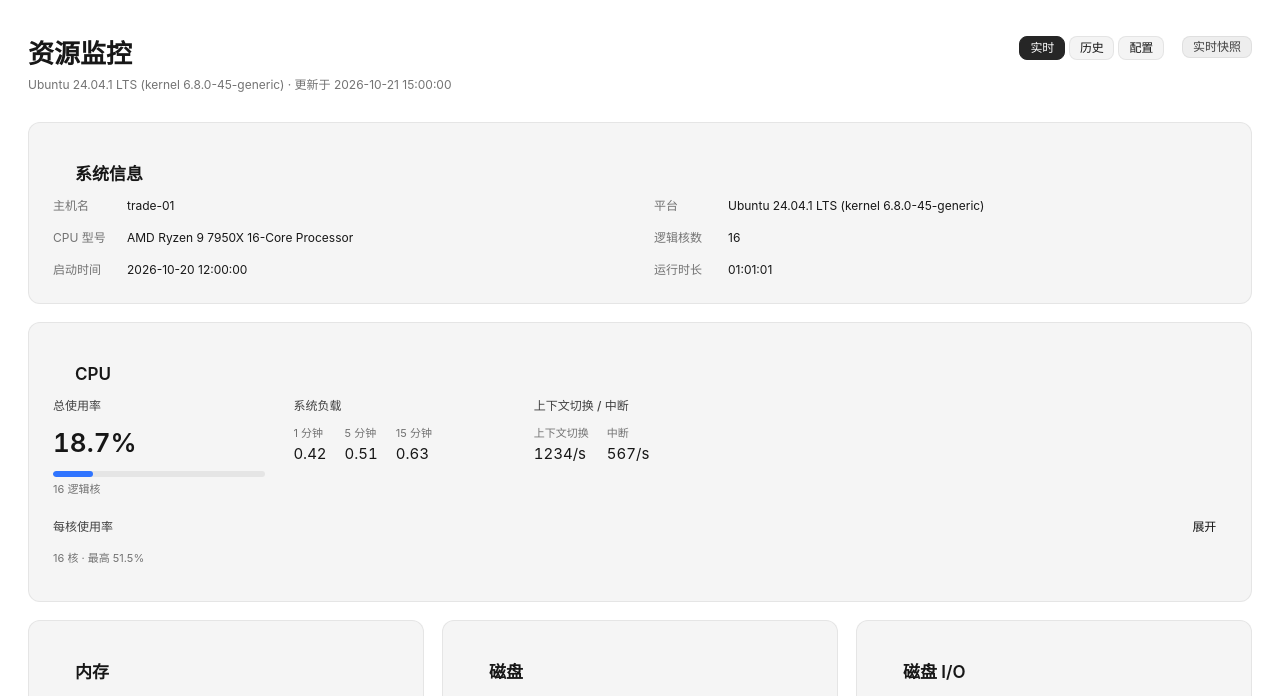
Scenario: MonitorView 历史视图（#79 三态） › 无数据：显示「该时间范围无数据」而不是「历史不可用」
Click the tab with test id "monitor-tab-history" at [1092, 48], box top-left (1069, 36), bottom-right (1114, 60)
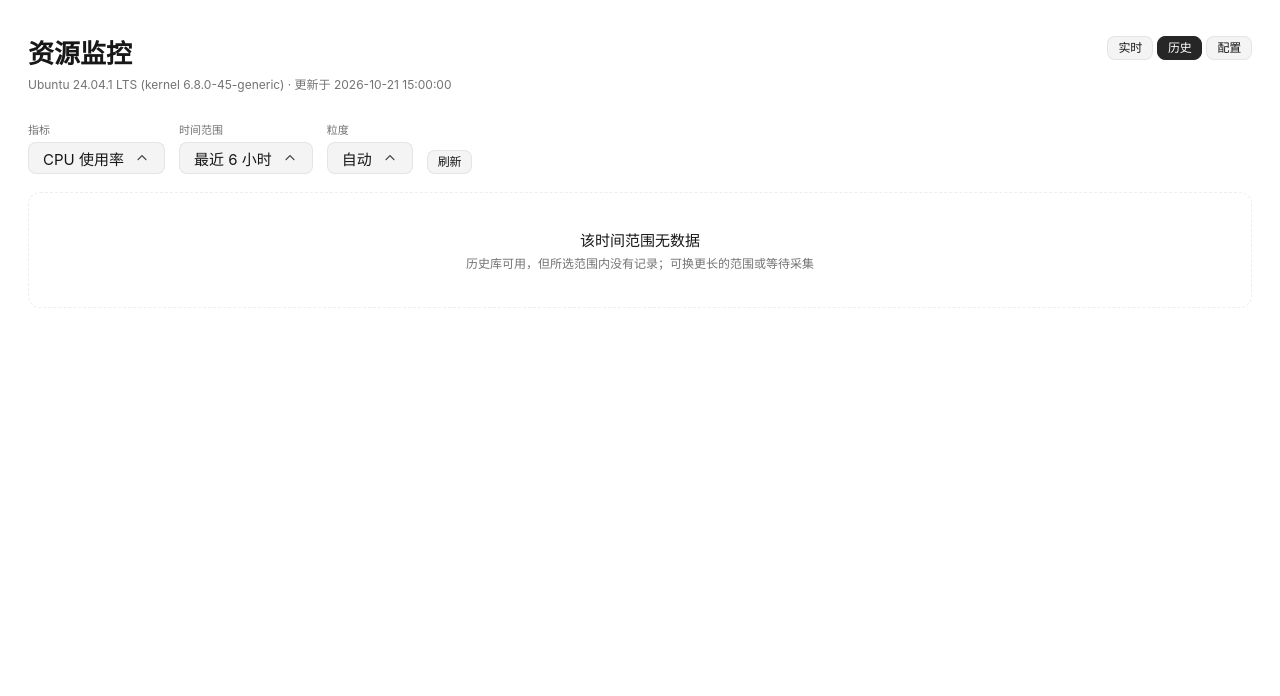
Expected: the element with test id "sysmon-history-empty" is shown, top-left (28, 192), bottom-right (1252, 308)
Expected: the element with test id "sysmon-history-empty" shows "历史库可用", top-left (466, 256), bottom-right (814, 271)
